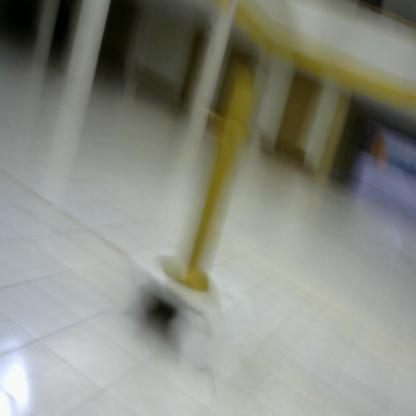pole: (163, 72, 266, 313)
